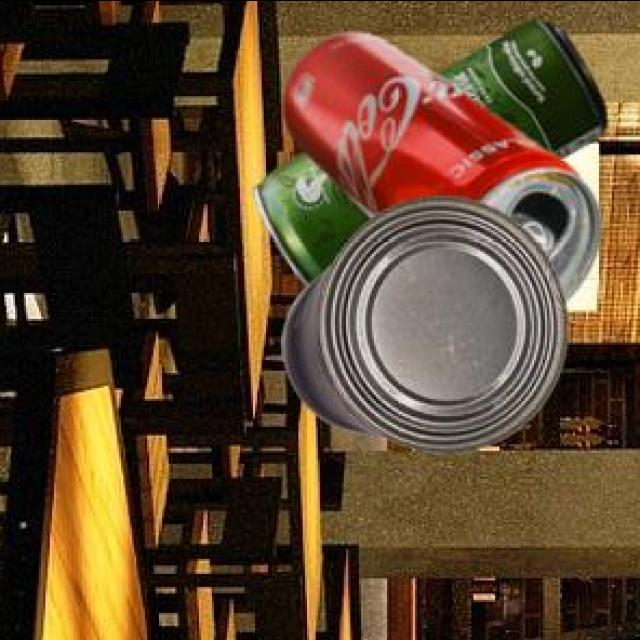logam: (289, 29, 604, 297), (284, 191, 572, 449), (358, 16, 611, 155), (256, 130, 375, 282)
